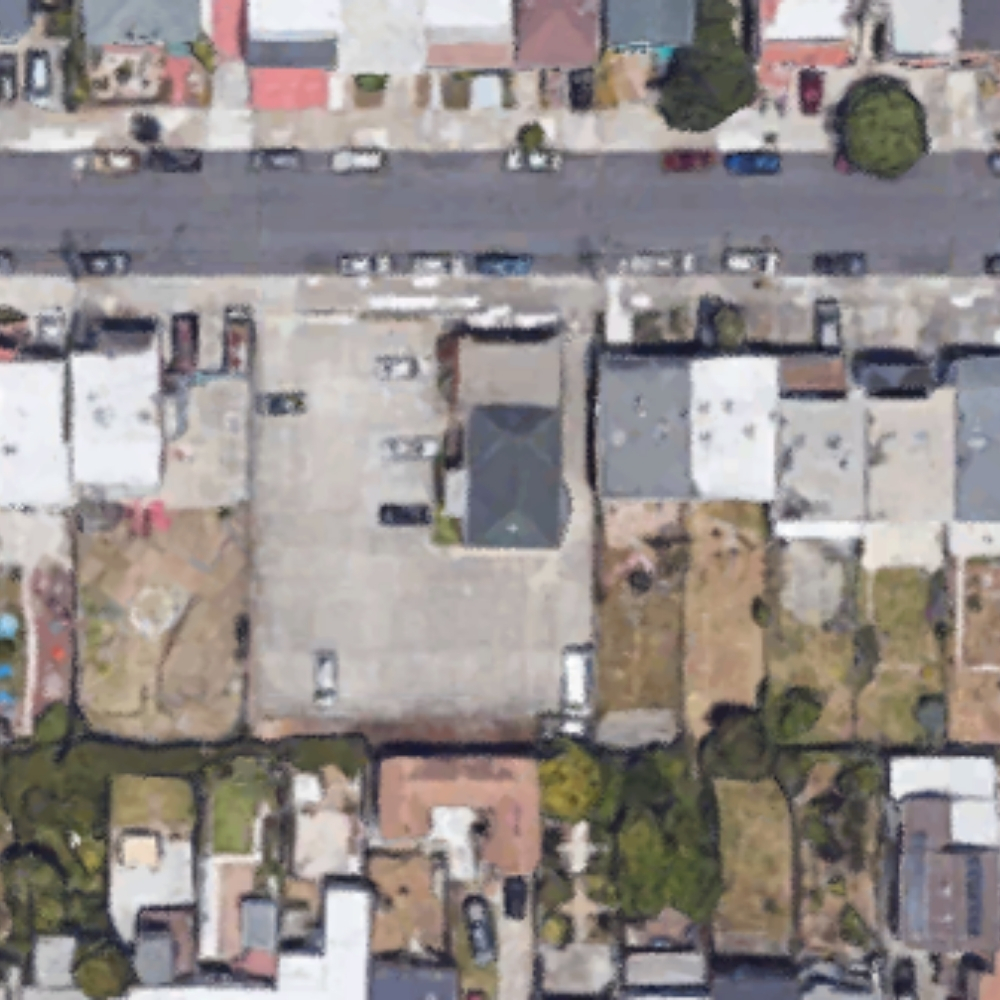parking: (250, 275, 585, 745)
